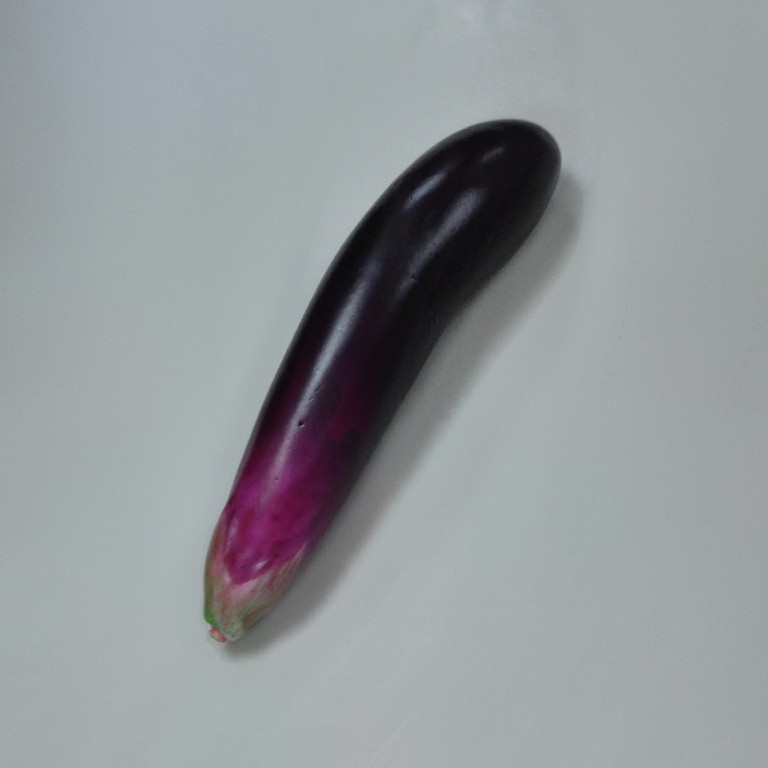fruit_eggplant: (197, 115, 564, 651)
